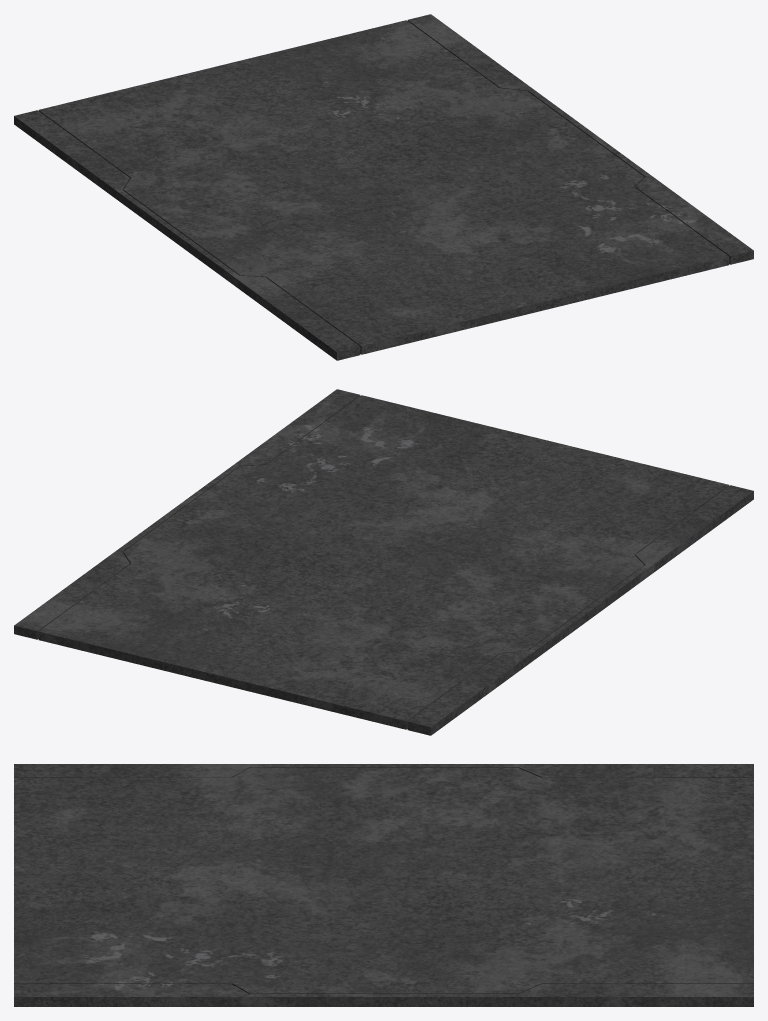
Rendered from floor.fbx.
3 views of the same model, one above another, from view 1: azimuth 30°, elevation 25°; view 2: azimuth 150°, elevation 25°; view 3: azimuth 270°, elevation 25° (orthographic). The views are drawn at different scales.
Parts seen in each view (by area): view 1: Cube.001; view 2: Cube.001; view 3: Cube.001.
Part boxes in pixels (x1,y1,x2,y2): Cube.001: (14,14,753,360); Cube.001: (14,389,753,735); Cube.001: (14,764,753,1006).
Bounding box in the file's own units: 533 × 10.4 × 715.
1 material, 1 textured.
